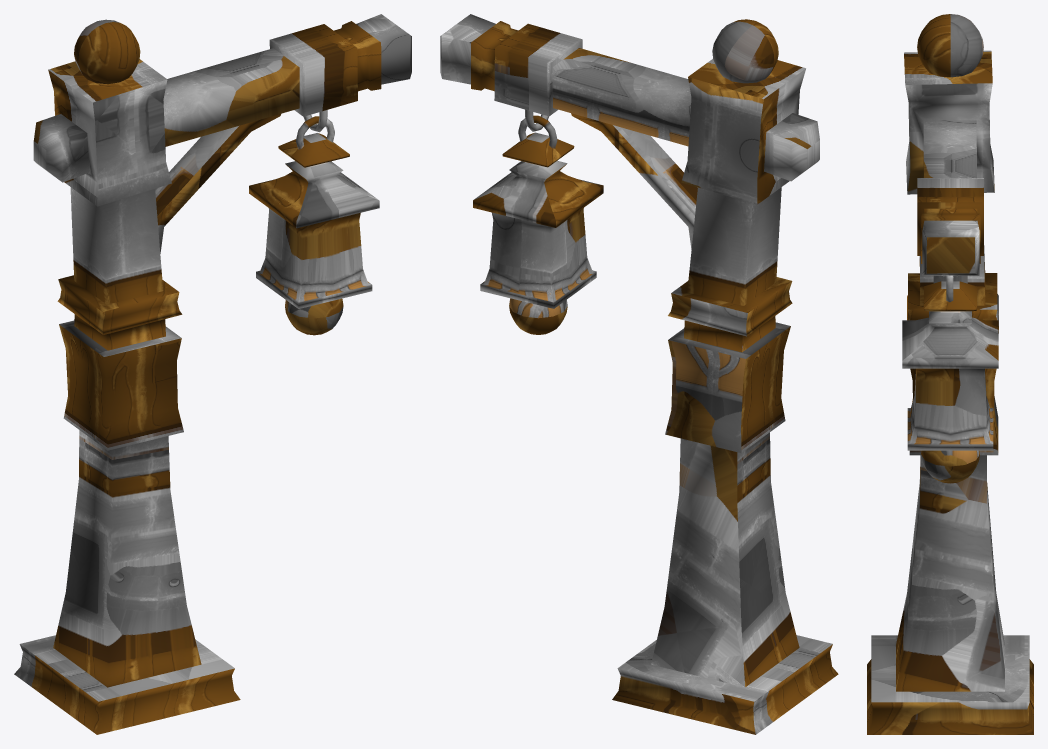
The model's file is lamp.obj.
3 views of the same model, side by side, from view 1: azimuth 30°, elevation 25°; view 2: azimuth 150°, elevation 25°; view 3: azimuth 270°, elevation 25° (orthographic).
Parts seen in each view (by area): view 1: pCube5, pCube4, pCube3, pSphere2, pSphere1; view 2: pCube5, pCube4, pCube3, pSphere2, pSphere1; view 3: pCube5, pCube4, pSphere2, pSphere1.
Boxes of the visible parts, box(x1,y1,x2,y2) form: pCube5: box(14, 14, 411, 734); pCube4: box(249, 133, 379, 308); pCube3: box(155, 114, 280, 253); pSphere2: box(74, 19, 140, 84); pSphere1: box(285, 298, 343, 335); pCube5: box(440, 14, 838, 734); pCube4: box(473, 132, 603, 308); pCube3: box(571, 113, 697, 249); pSphere2: box(712, 19, 778, 83); pSphere1: box(509, 298, 567, 334); pCube5: box(867, 50, 1033, 734); pCube4: box(902, 281, 998, 450); pSphere2: box(917, 14, 983, 77); pSphere1: box(921, 450, 979, 483).
Size of the model in its own units: 0.0382 by 0.0678 by 0.0152.
1 material, 1 textured.
